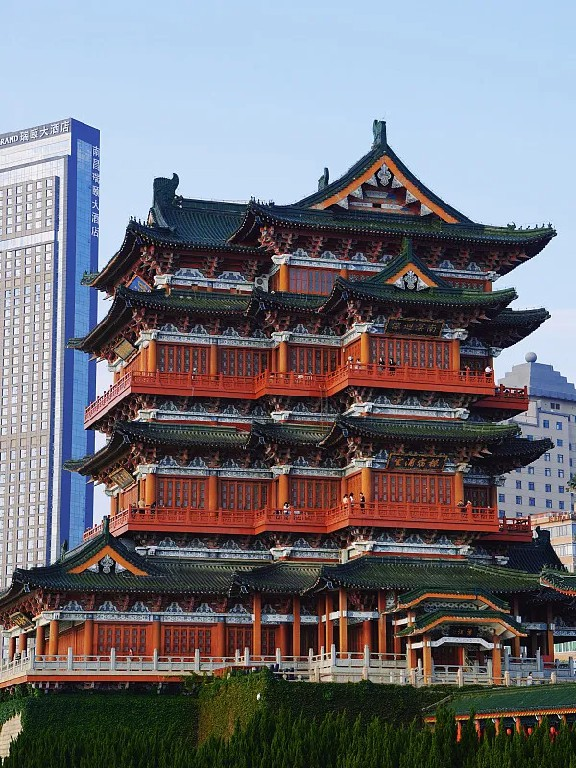Teng: (1, 122, 576, 684)
